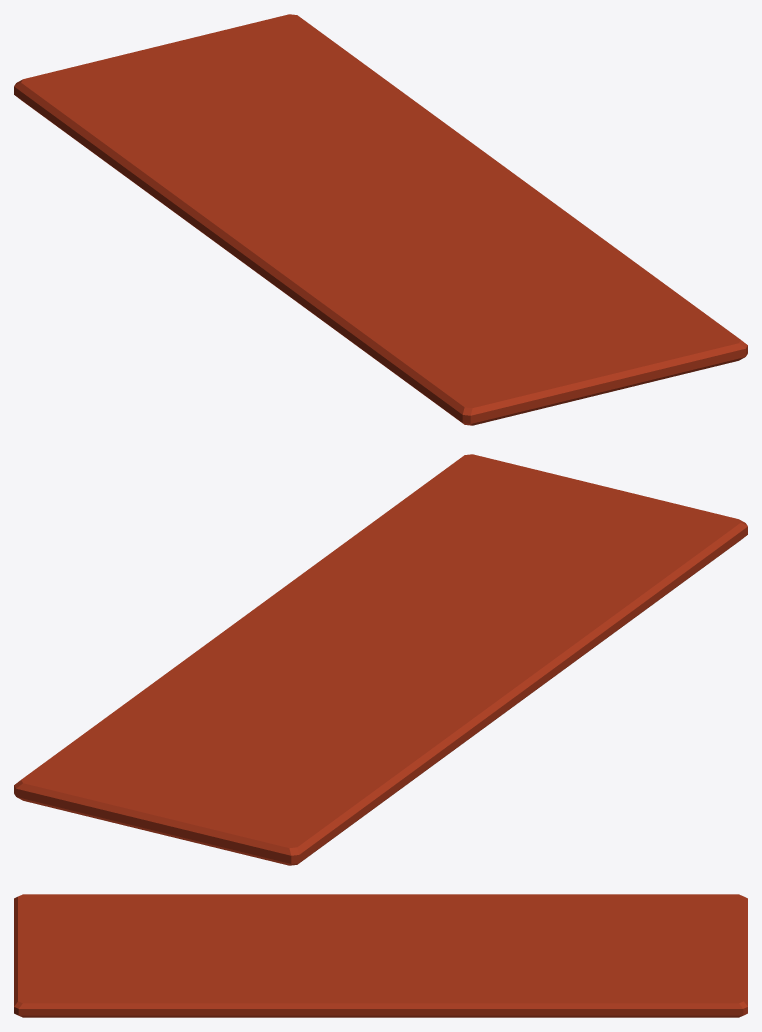
3 views of the same model, one above another, from view 1: azimuth 30°, elevation 25°; view 2: azimuth 150°, elevation 25°; view 3: azimuth 270°, elevation 25° (orthographic). The views are drawn at different scales.
Parts seen in each view (by area): view 1: Sp_Mat_1; view 2: Sp_Mat_1; view 3: Sp_Mat_1.
Part boxes in pixels (<box>): Sp_Mat_1: <box>14,14,747,425</box>; Sp_Mat_1: <box>14,454,747,865</box>; Sp_Mat_1: <box>14,894,747,1017</box>.
Size of the model in its own units: 68.84 by 4.05 by 190.
